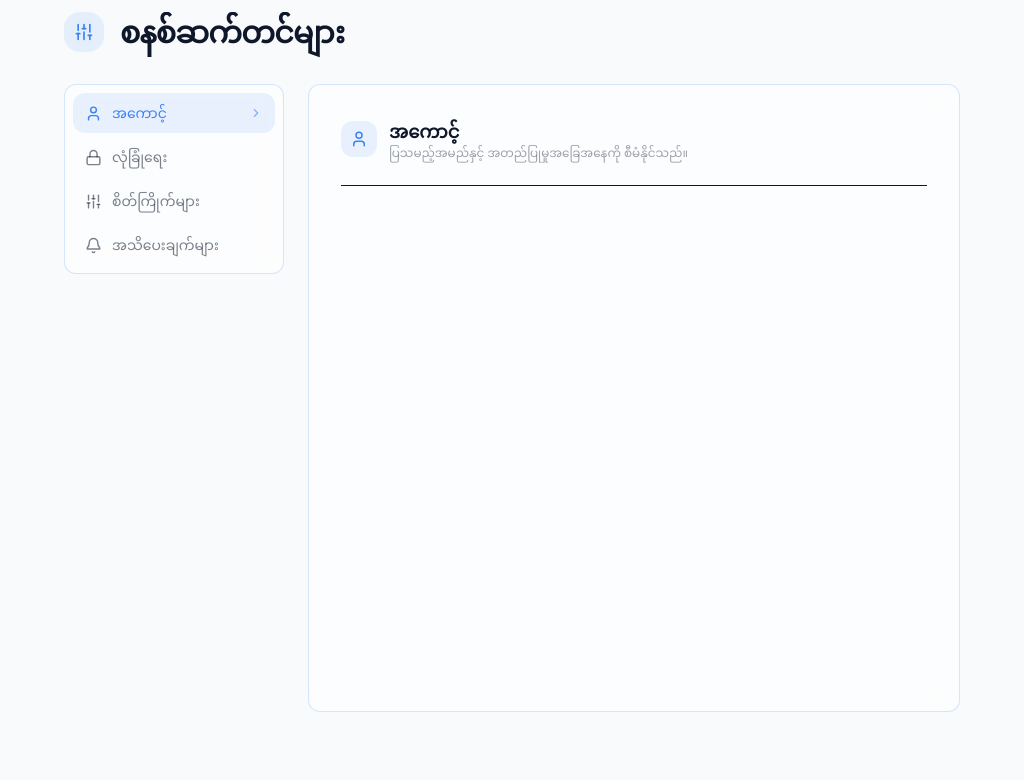
Test: Locale end-to-end integration › renders localized UI strings when selected locale has translations
Expected: the heading "စနစ်ဆက်တင်များ" is shown, [120, 14, 344, 50]
What coordinates should you click on to do the following:
click the button "စိတ်ကြိုက်များ"
I would click on:
 (174, 201)
Its box is [73, 181, 275, 221].
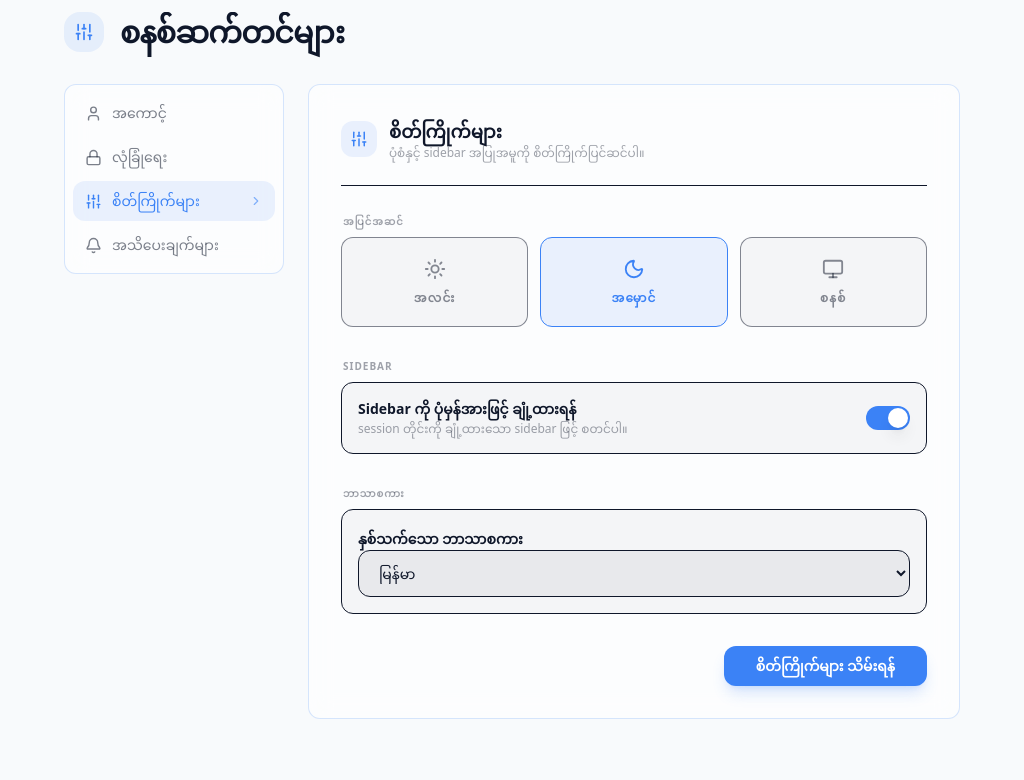
Expected: the button "အကောင့်" is shown, [73, 93, 275, 133]
Expected: the text "အပြင်အဆင်" is shown, [343, 214, 404, 228]
Expected: the dropdown labelled "နှစ်သက်သော ဘာသာစကား" shows "မြန်မာ", [358, 550, 910, 597]
